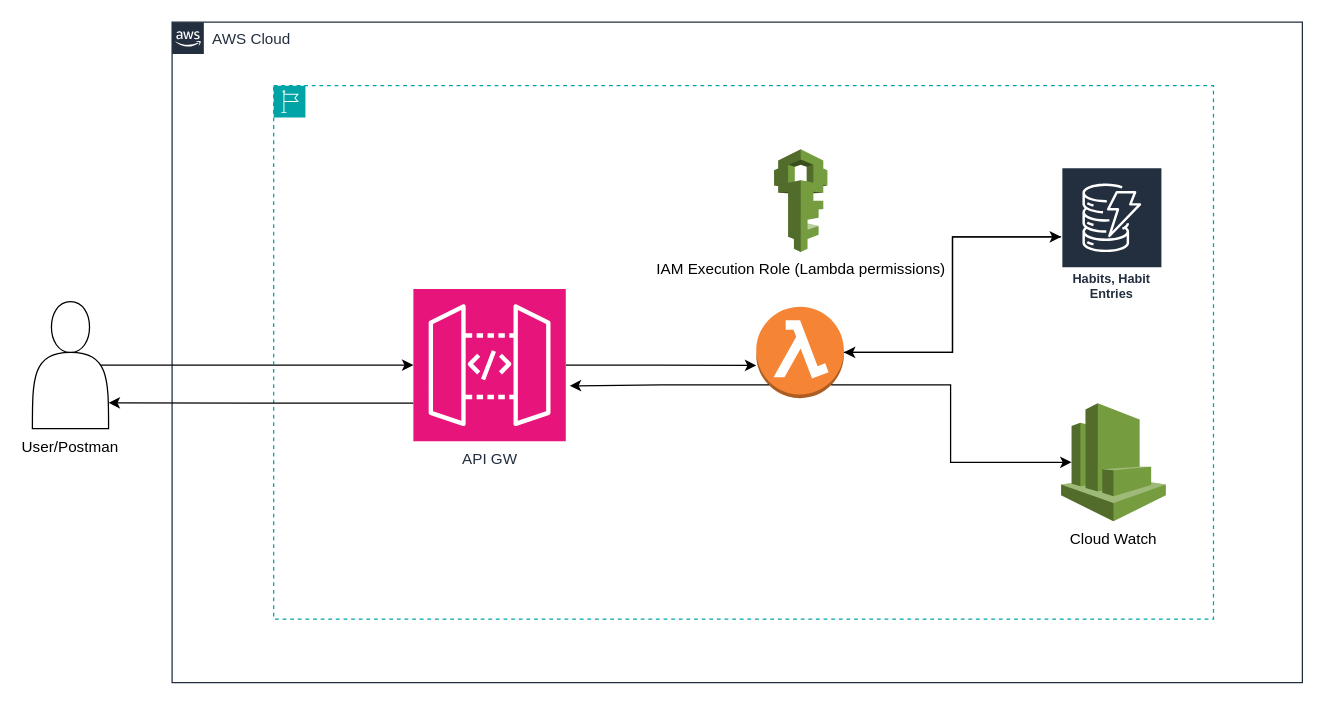
This 1325x705 diagram has some shape labels left out. Here are the shapes that lost their labels. From the top down, the box of each, then its label:
(272, 84, 1213, 619): Region
(755, 305, 844, 398): Habit Tracker Fxn
